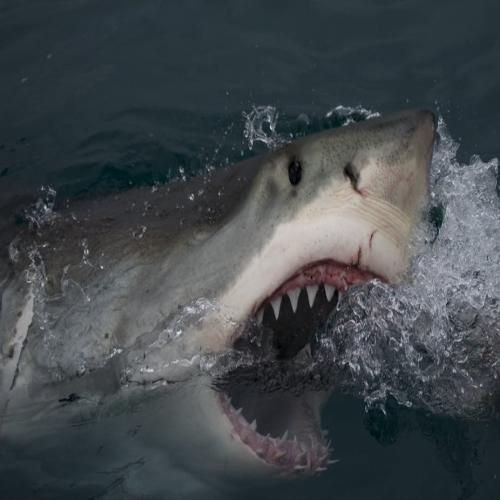shark-endangered: (57, 87, 451, 486)
